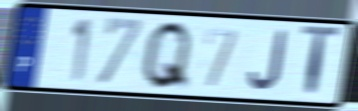1: (71, 16, 93, 84)
7: (97, 15, 144, 89), (202, 26, 239, 89)
J: (247, 28, 289, 93)
Q: (139, 19, 195, 93)
T: (299, 23, 344, 103)
